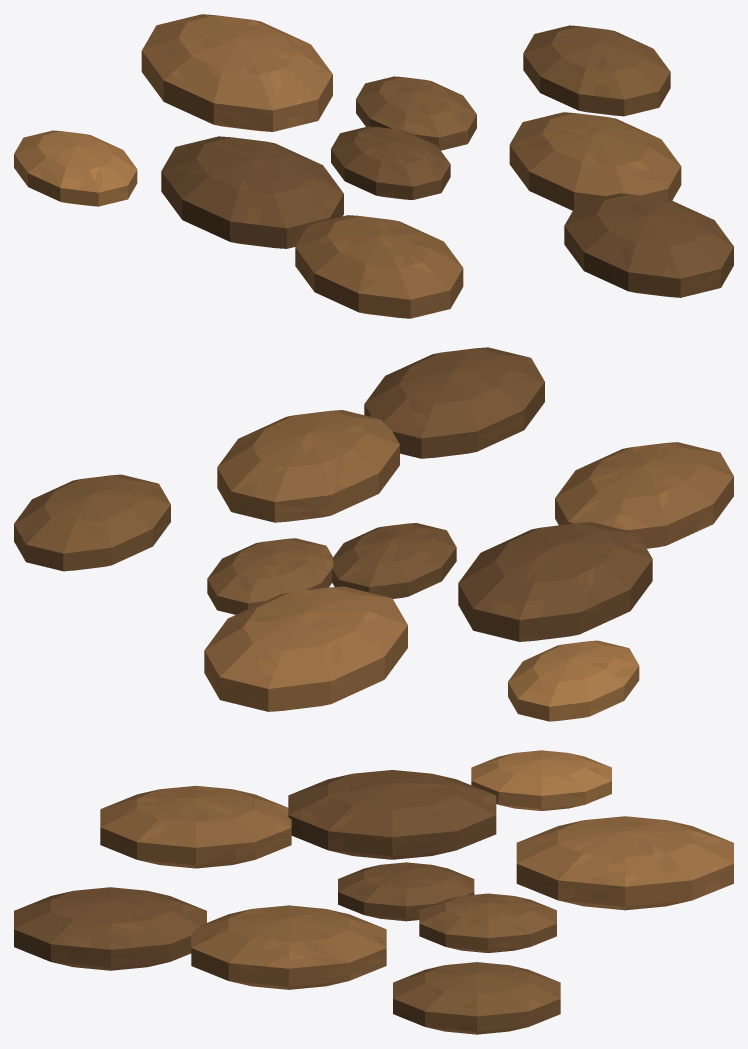
Rendered from seed_cranberries.glb.
3 renders of one model, top to bottom at view 1: azimuth 30°, elevation 25°; view 2: azimuth 150°, elevation 25°; view 3: azimuth 270°, elevation 25°, orthographic. The views are drawn at different scales.
Visible parts, largest first — view 1: block_grain 4, block_grain 2, block_grain 8, block_grain 5, block_grain 3, block_grain 6, block_grain 7, block_grain 0, block_grain 1; view 2: block_grain 4, block_grain 2, block_grain 3, block_grain 8, block_grain 5, block_grain 6, block_grain 7, block_grain 0, block_grain 1; view 3: block_grain 4, block_grain 2, block_grain 3, block_grain 5, block_grain 8, block_grain 6, block_grain 7, block_grain 1, block_grain 0.
Part boxes in pixels (left/top/right/bottom): block_grain 4: left=141, top=14, right=332, bottom=131; block_grain 2: left=161, top=136, right=343, bottom=248; block_grain 8: left=564, top=193, right=733, bottom=297; block_grain 5: left=295, top=215, right=463, bottom=318; block_grain 3: left=509, top=112, right=681, bottom=210; block_grain 6: left=523, top=25, right=670, bottom=116; block_grain 7: left=14, top=130, right=137, bottom=206; block_grain 0: left=331, top=126, right=450, bottom=199; block_grain 1: left=356, top=76, right=476, bottom=150; block_grain 4: left=204, top=586, right=407, bottom=711; block_grain 2: left=458, top=522, right=652, bottom=641; block_grain 3: left=217, top=410, right=399, bottom=522; block_grain 8: left=364, top=347, right=544, bottom=458; block_grain 5: left=555, top=442, right=733, bottom=548; block_grain 6: left=14, top=474, right=170, bottom=571; block_grain 7: left=508, top=640, right=639, bottom=721; block_grain 0: left=332, top=523, right=456, bottom=598; block_grain 1: left=207, top=538, right=333, bottom=614; block_grain 4: left=516, top=816, right=733, bottom=910; block_grain 2: left=288, top=770, right=496, bottom=859; block_grain 3: left=191, top=905, right=386, bottom=989; block_grain 5: left=100, top=785, right=291, bottom=868; block_grain 8: left=14, top=887, right=206, bottom=970; block_grain 6: left=393, top=962, right=560, bottom=1034; block_grain 7: left=471, top=750, right=611, bottom=810; block_grain 1: left=419, top=893, right=556, bottom=952; block_grain 0: left=338, top=862, right=474, bottom=921.
Size of the model in its own units: 0.0195 by 0.0022 by 0.022.
Materials: 1 (1 with a texture image).
